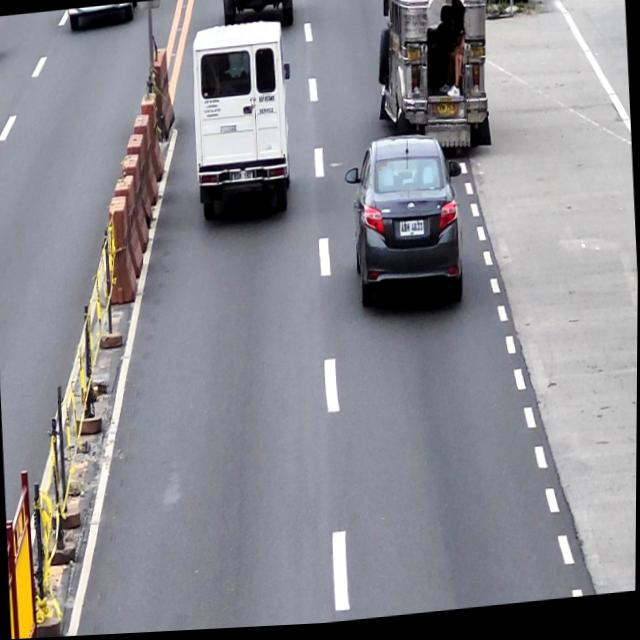Car: (342, 132, 471, 316), (189, 21, 298, 229)
Jeep: (372, 0, 493, 165)
License-Plate: (400, 223, 425, 243), (433, 104, 457, 123)
